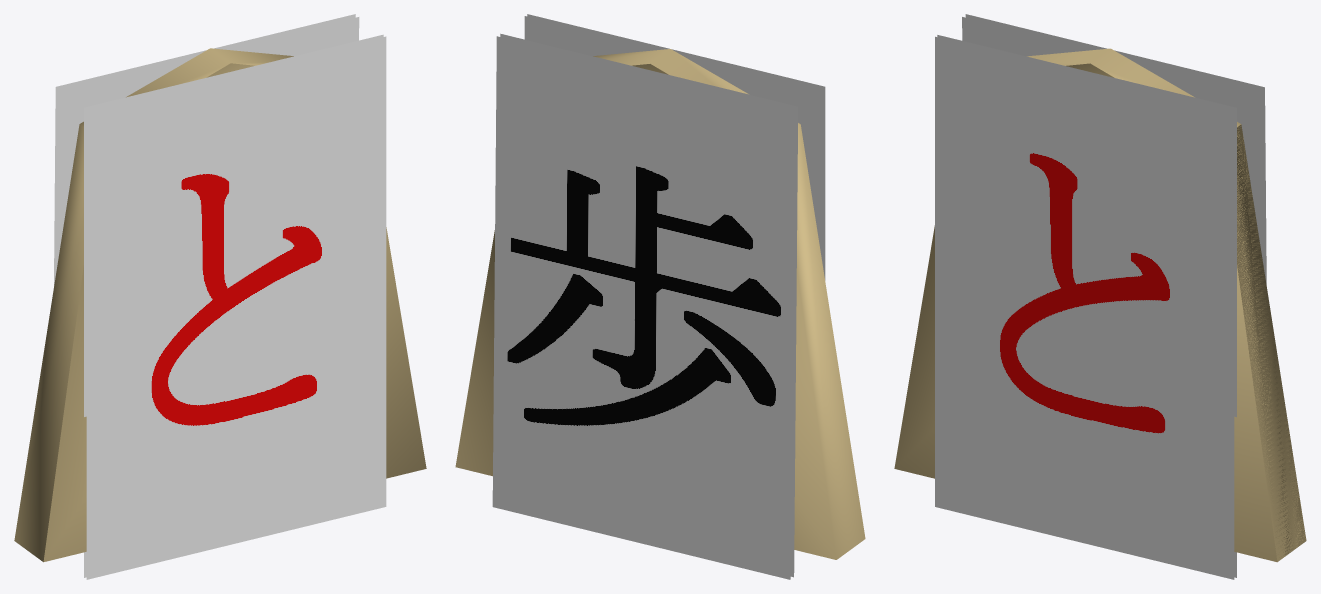
The model's file is KomaHu.fbx.
3 views of the same model, side by side, from view 1: azimuth 30°, elevation 25°; view 2: azimuth 150°, elevation 25°; view 3: azimuth 330°, elevation 25° (orthographic).
Visible parts, largest first — view 1: Ura, Piece, Omote; view 2: Omote, Piece, Ura; view 3: Ura, Piece, Omote.
Boxes of the visible parts, x1,y1,x2,y2 form: Ura: (84, 34, 386, 579); Piece: (14, 48, 426, 562); Omote: (54, 14, 359, 285); Omote: (492, 33, 798, 579); Piece: (455, 49, 865, 559); Ura: (524, 14, 825, 280); Ura: (935, 35, 1236, 579); Piece: (894, 48, 1306, 562); Omote: (962, 14, 1266, 284).
Size of the model in its own units: 0.6071 by 0.7207 by 0.0961.
Materials: 3 (2 with a texture image).
